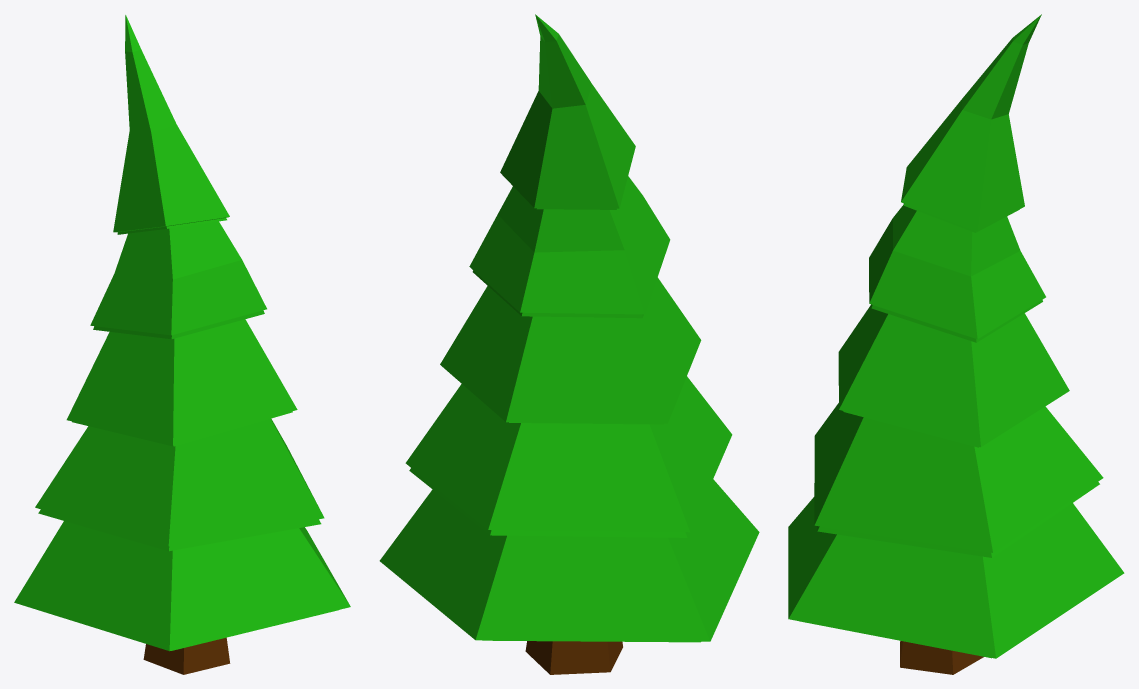
Rendered from Low-Poly-Tree.fbx.
3 views of the same model, side by side, from view 1: azimuth 30°, elevation 25°; view 2: azimuth 150°, elevation 25°; view 3: azimuth 270°, elevation 25° (orthographic). The views are drawn at different scales.
Parts seen in each view (by area): view 1: Cylinder.001; view 2: Cylinder.001; view 3: Cylinder.001.
Part boxes in pixels (left/top/right/bottom): Cylinder.001: left=14, top=15, right=350, bottom=674; Cylinder.001: left=379, top=14, right=759, bottom=674; Cylinder.001: left=788, top=14, right=1124, bottom=674.
Size of the model in its own units: 205 by 407 by 195.
